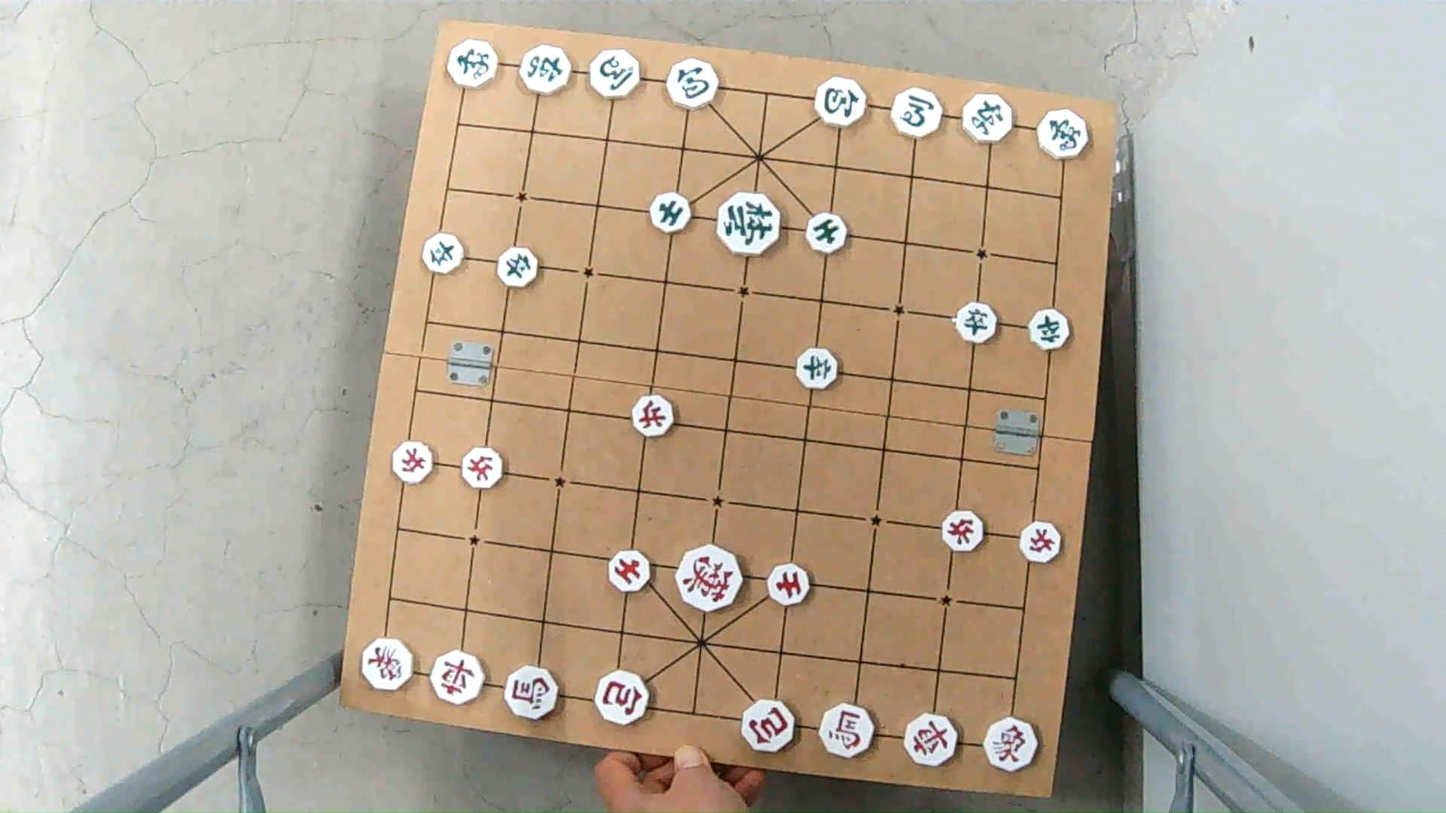cha_green: (514, 47, 572, 96), (959, 95, 1014, 142)
cha_red: (900, 717, 960, 766), (430, 653, 488, 703)
jol_green: (795, 350, 844, 388), (420, 237, 469, 274), (953, 305, 1000, 343), (1025, 311, 1072, 348), (495, 249, 541, 286)
jol_red: (392, 442, 438, 482), (630, 396, 678, 434), (941, 515, 990, 551), (459, 449, 506, 486), (1017, 525, 1064, 562)
ma_green: (588, 53, 645, 99), (889, 90, 946, 134)
ma_red: (504, 667, 561, 717), (816, 707, 875, 755)
po_green: (813, 76, 869, 126), (665, 59, 721, 108)
po_red: (593, 673, 652, 723), (742, 703, 800, 751)
sa_green: (804, 212, 852, 255), (647, 193, 694, 230)
sa_red: (606, 551, 654, 592), (763, 565, 811, 603)
sang_green: (1034, 108, 1094, 155), (446, 38, 503, 84)
sang_red: (982, 717, 1043, 768), (358, 638, 414, 685)
wang_green: (715, 196, 782, 252)
wang_red: (675, 547, 746, 609)
